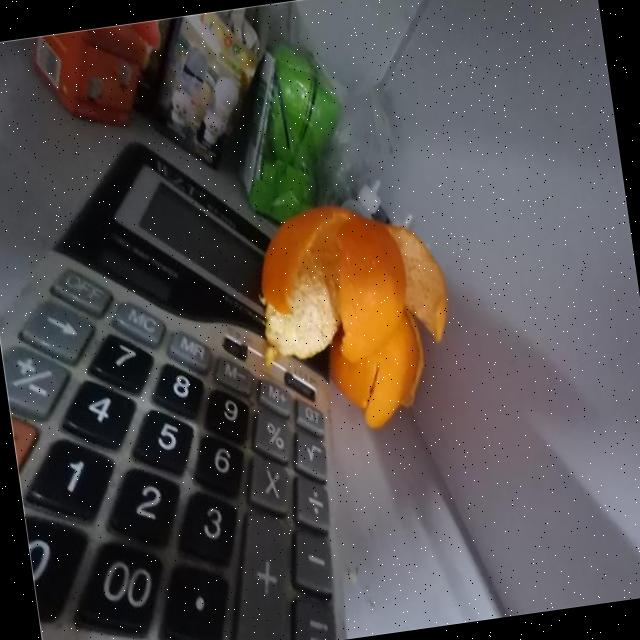orange-peel: (246, 188, 464, 443)
